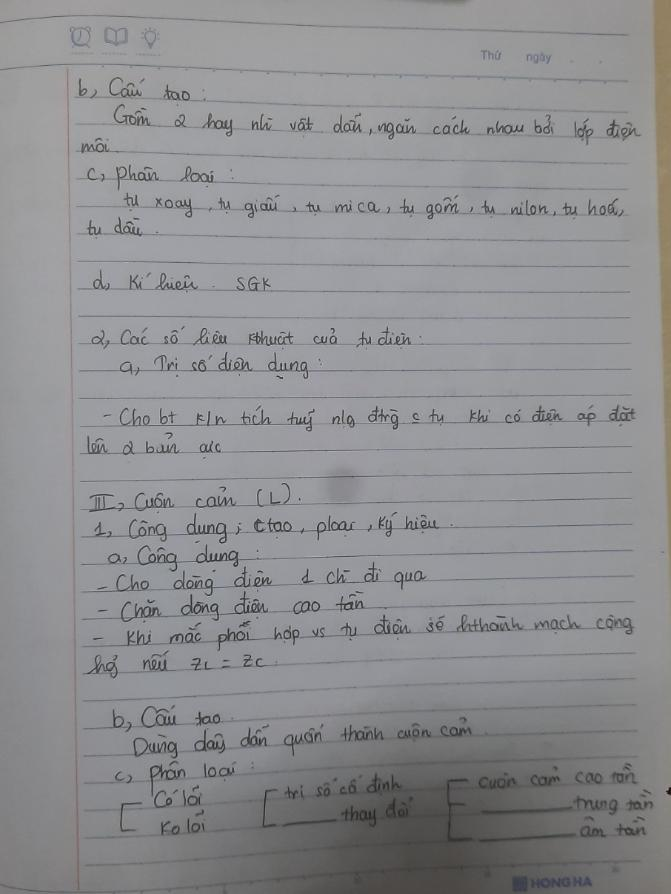text: (110, 101, 644, 148), (91, 608, 636, 654), (101, 399, 639, 436), (131, 711, 476, 763), (121, 189, 626, 222), (93, 556, 429, 601), (92, 509, 442, 548), (96, 586, 367, 628), (88, 323, 414, 354), (86, 478, 293, 516), (118, 346, 311, 384), (84, 646, 267, 684), (476, 759, 641, 796), (90, 266, 275, 297), (113, 755, 239, 799), (84, 159, 219, 195), (106, 541, 243, 576), (84, 427, 224, 460), (281, 767, 405, 804), (110, 699, 223, 736), (76, 71, 193, 105), (570, 784, 656, 819), (339, 791, 414, 829), (579, 815, 649, 842), (83, 214, 146, 241), (151, 781, 205, 811), (156, 812, 209, 839), (79, 135, 113, 156), (477, 45, 505, 65)
